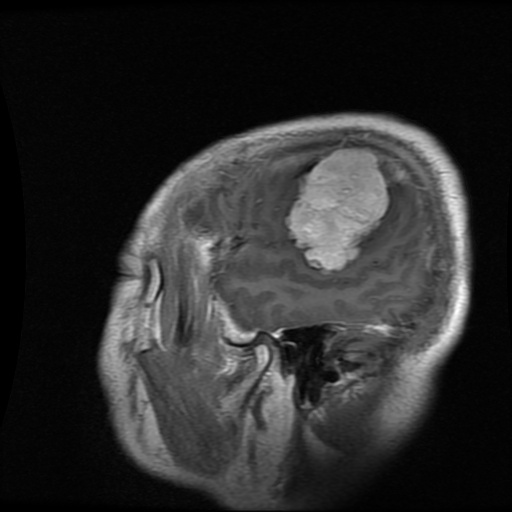meningioma: (287, 148, 388, 270)
